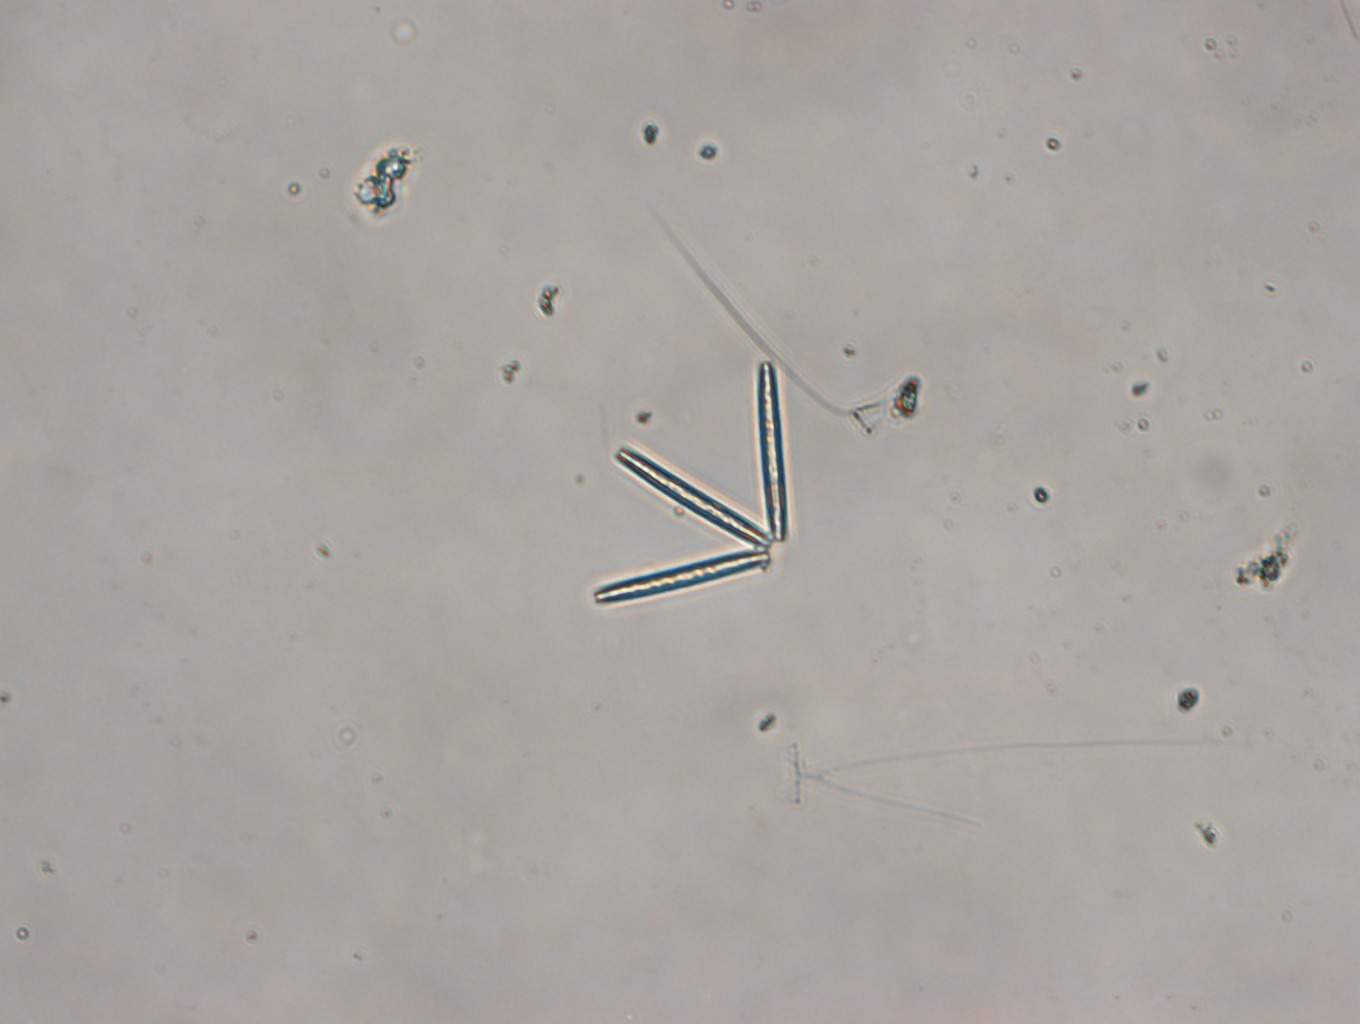thalassionema nitzschioides: (586, 361, 791, 611)
